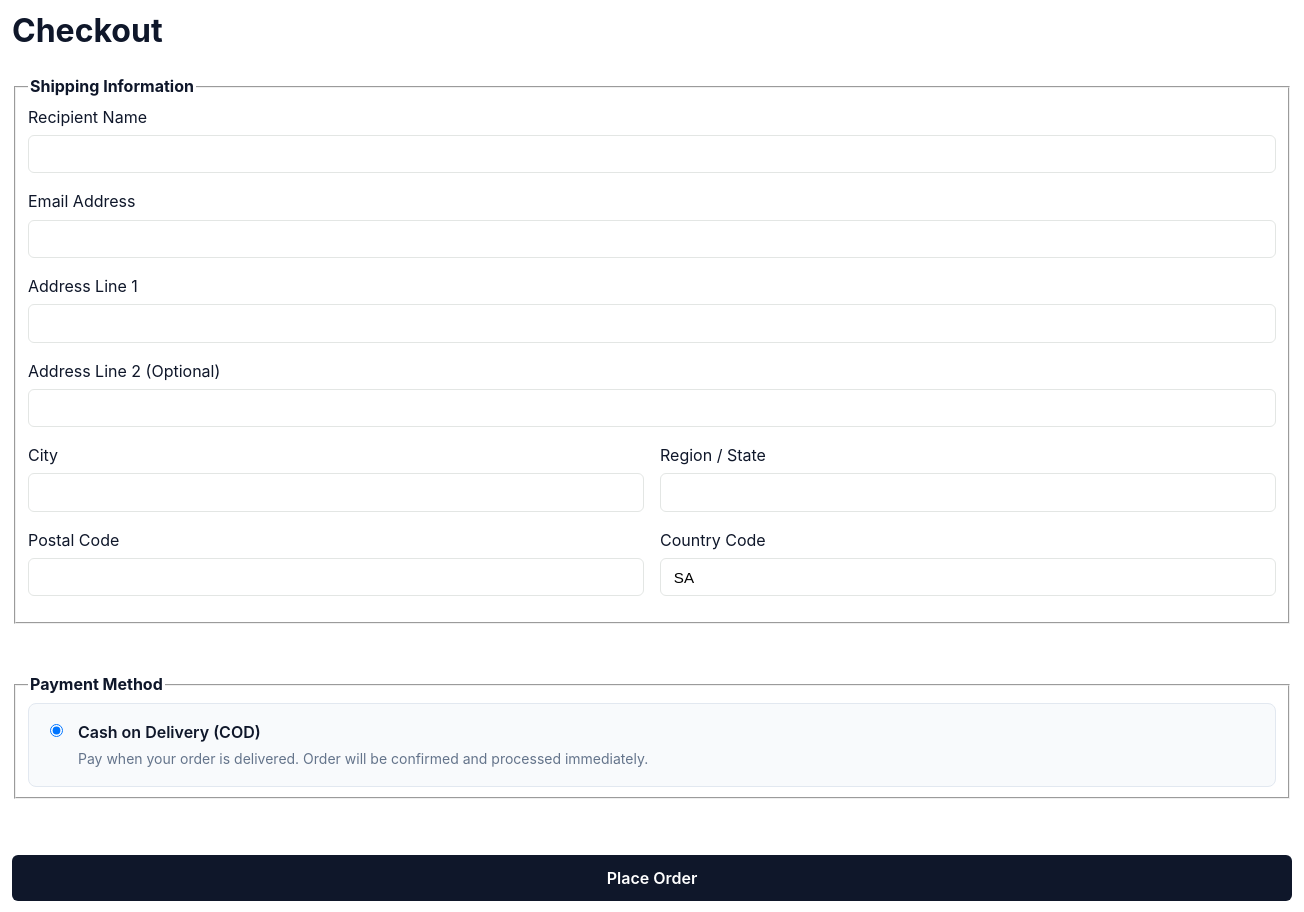
Test: CheckoutPage Component › displays localized error banner when price change or inventory depletion occurs
This screenshot has width=1304, height=912.
In the field labelled "Recipient Name": (652, 154) top-left (28, 135), bottom-right (1276, 173), type "Ahmad Mansoor"
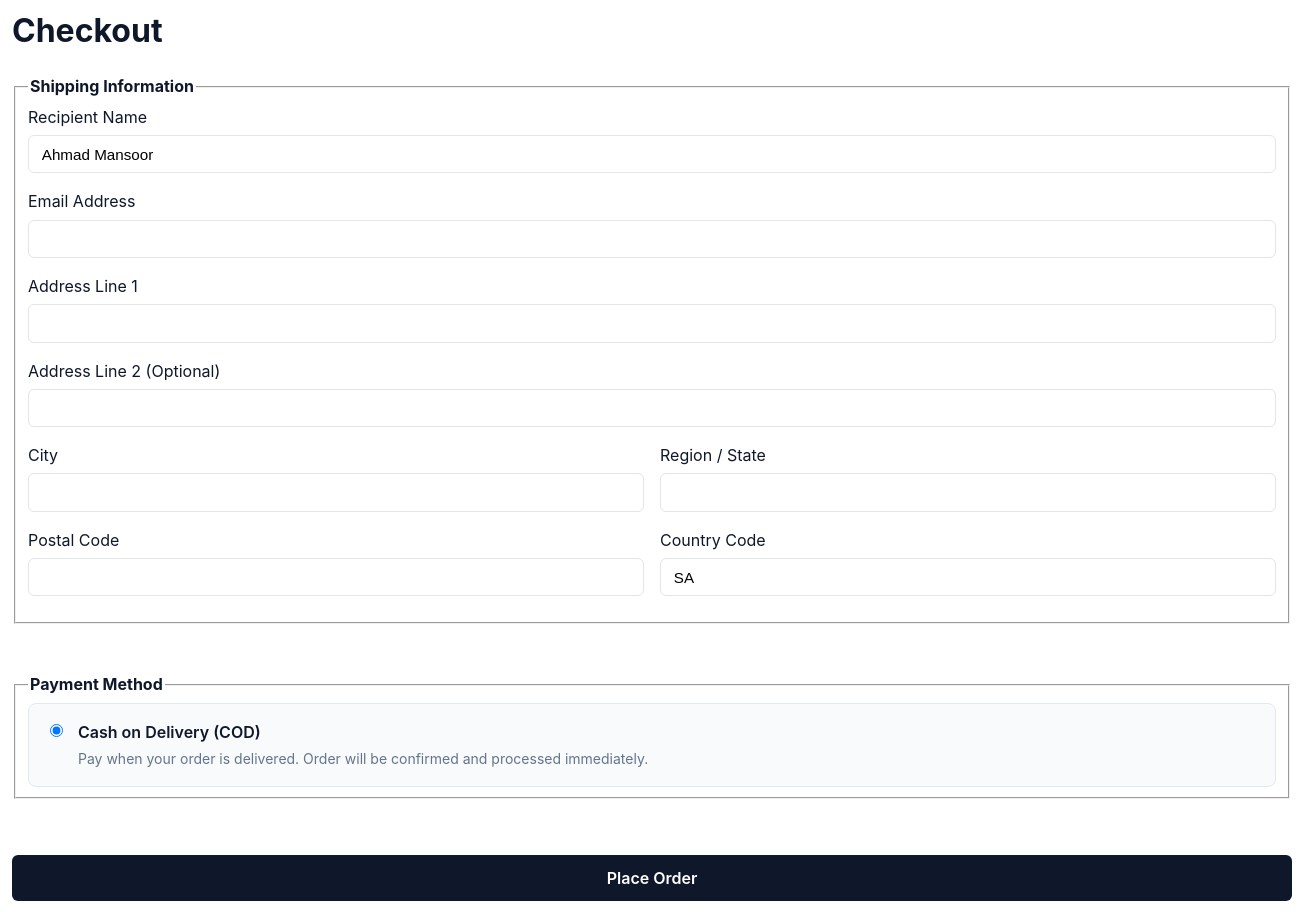
In the field labelled "Email Address": (652, 239) top-left (28, 220), bottom-right (1276, 258), type "ahmad@example.com"
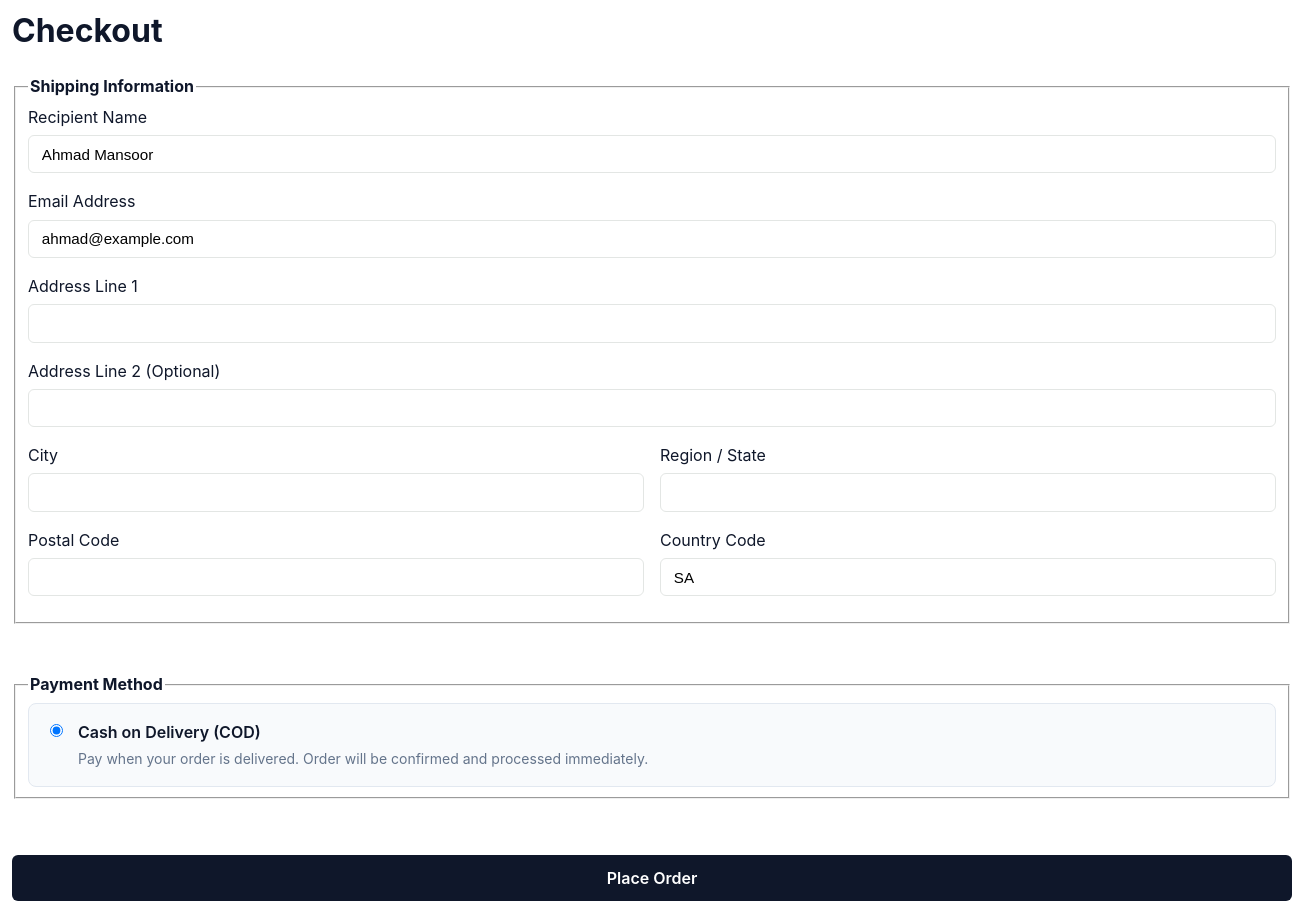
In the field labelled "Address Line 1": (652, 323) top-left (28, 304), bottom-right (1276, 342), type "King Fahd Road"
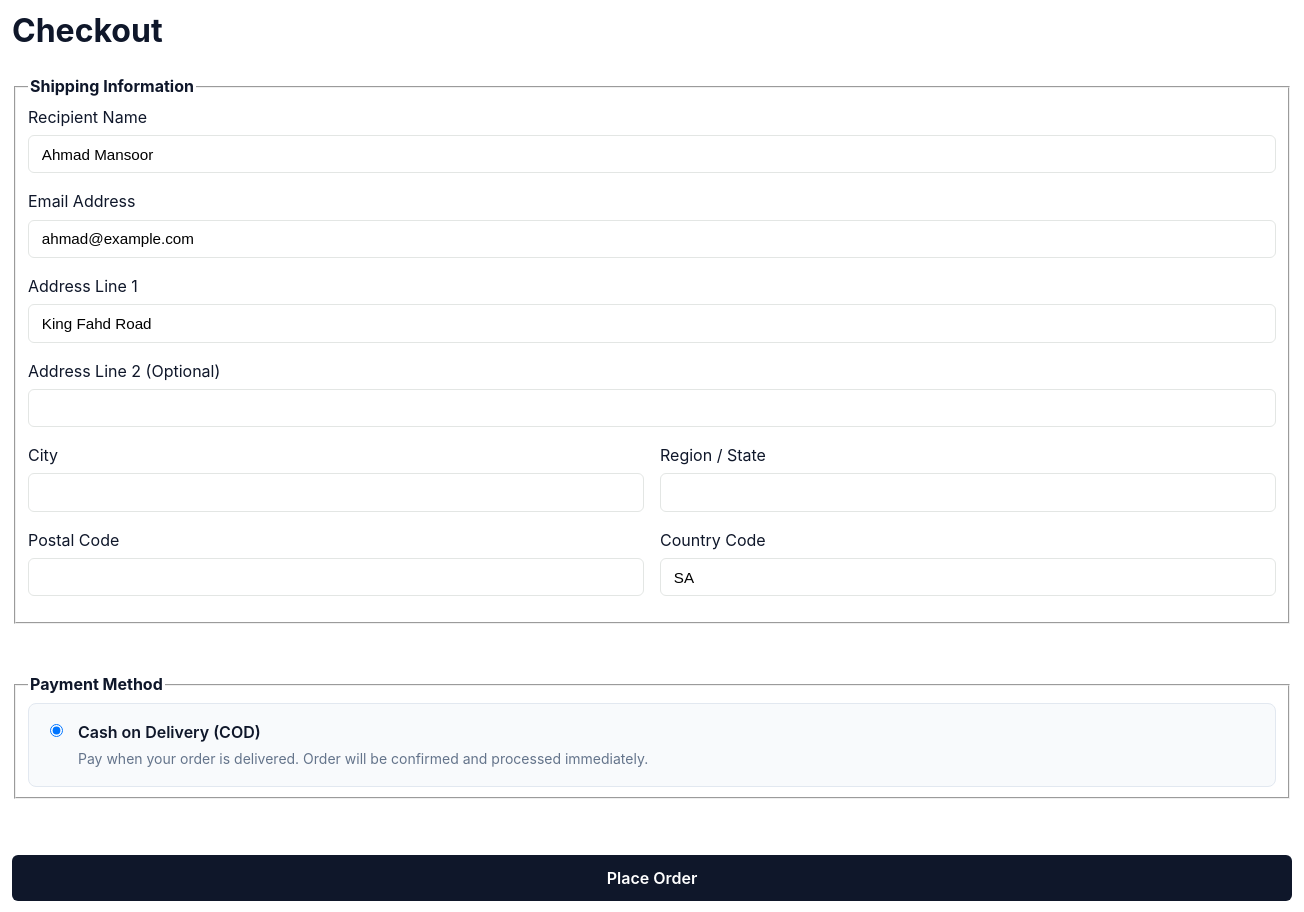
In the field labelled "City": (336, 493) top-left (28, 474), bottom-right (644, 512), type "Riyadh"
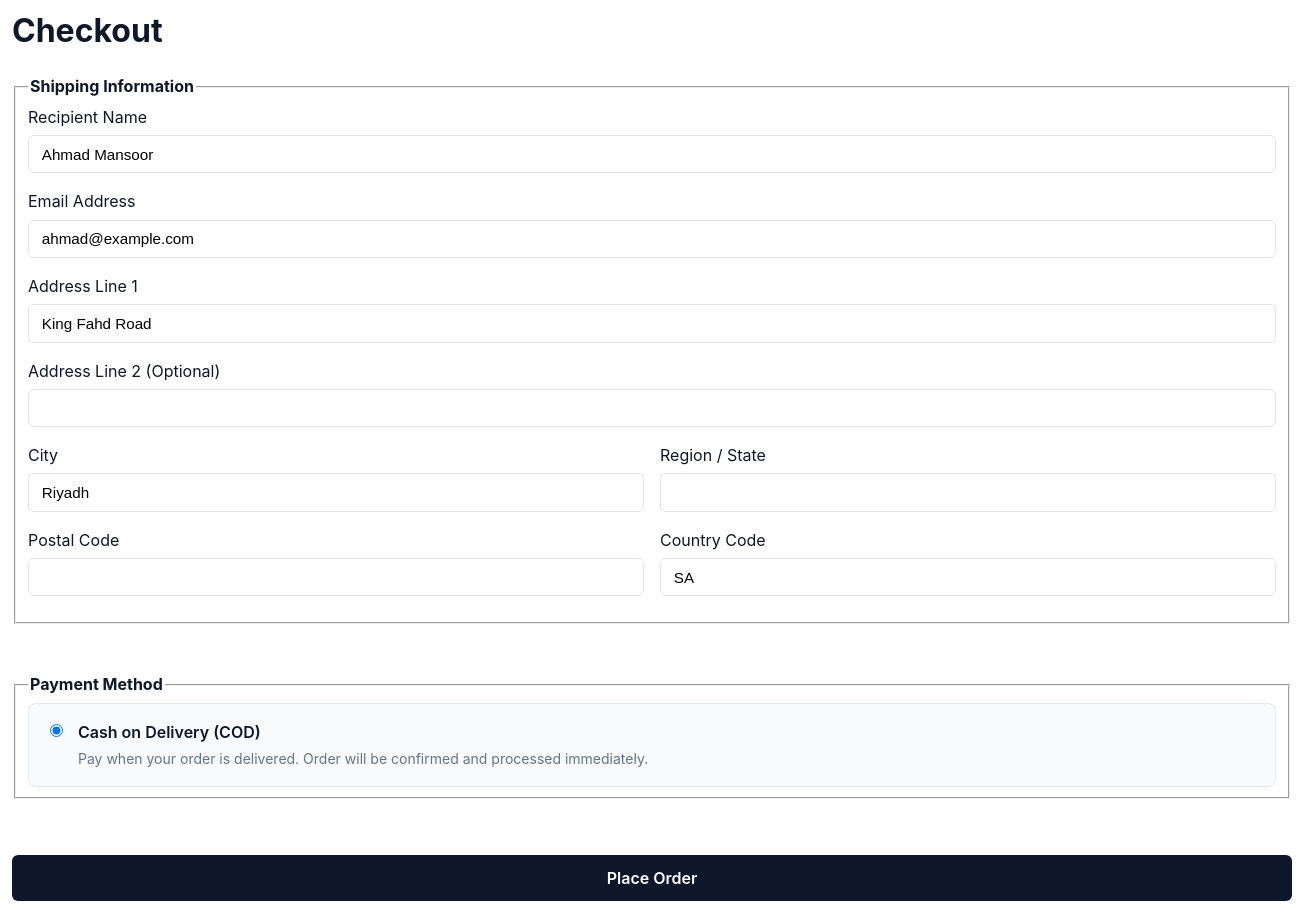
Click the button "Place Order": (652, 878) top-left (12, 855), bottom-right (1292, 901)
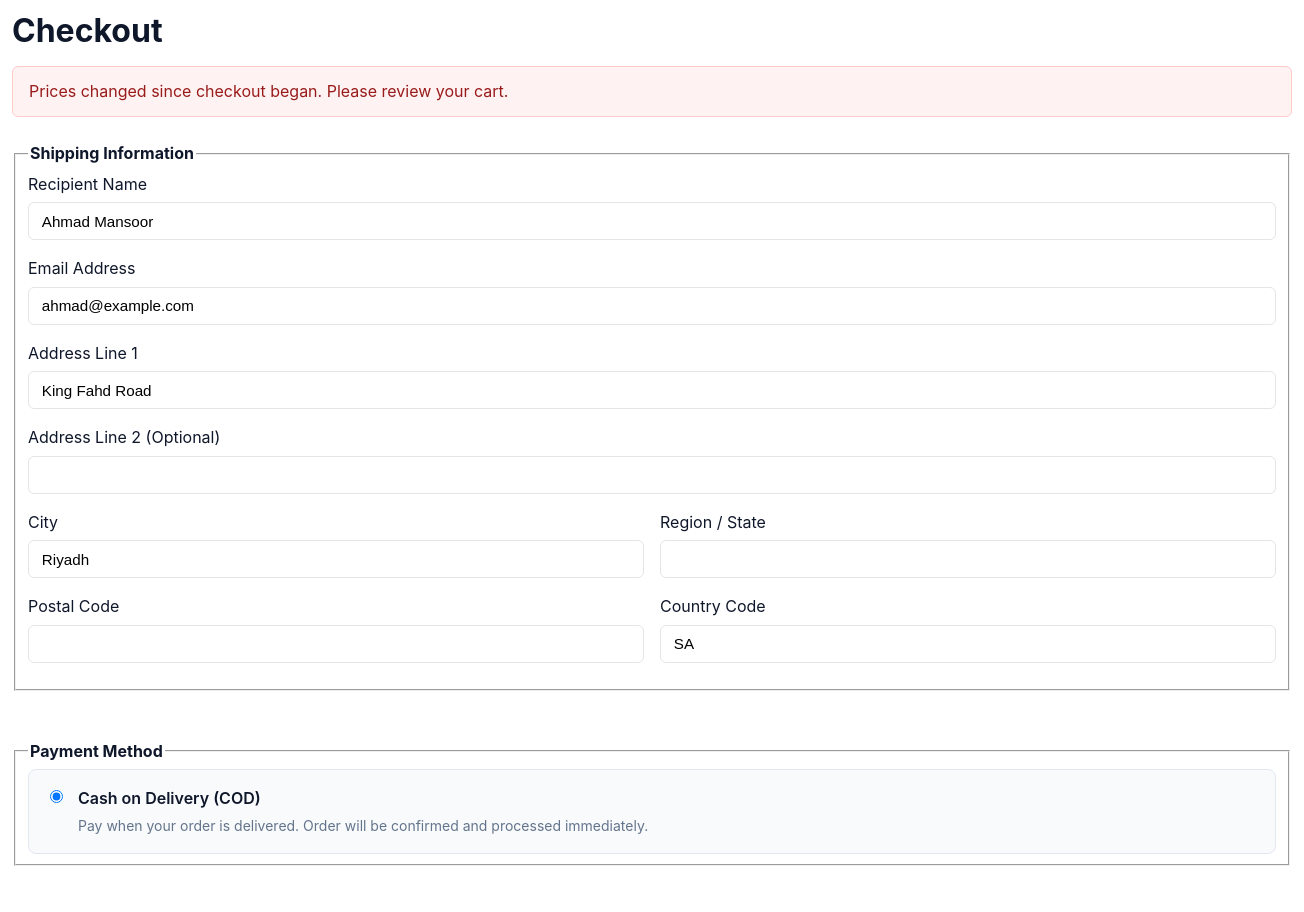
Expected: the message reads "Prices changed since checkout began. Please review your cart.", top-left (29, 81), bottom-right (508, 101)
